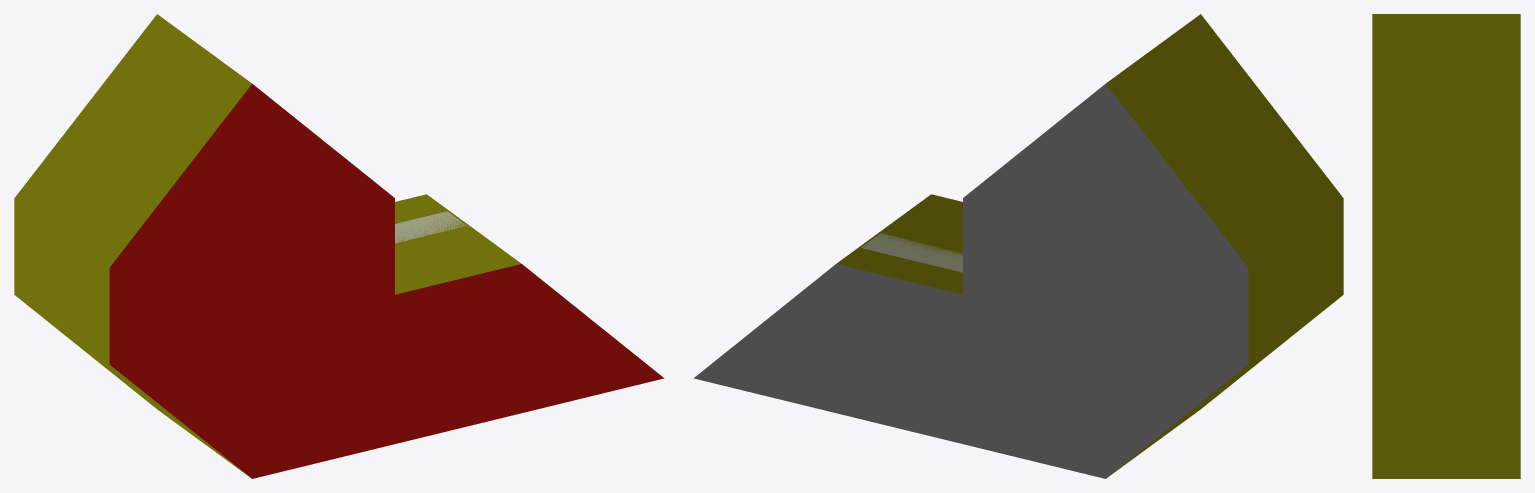
File: idf.obj
3 renders of one model, left to right at view 1: azimuth 30°, elevation 25°; view 2: azimuth 150°, elevation 25°; view 3: azimuth 270°, elevation 25°, orthographic. The views are drawn at different scales.
Bounding box in the file's own units: 14.22 × 9.68 × 4.22.
